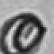correct: (0, 9, 47, 54)
